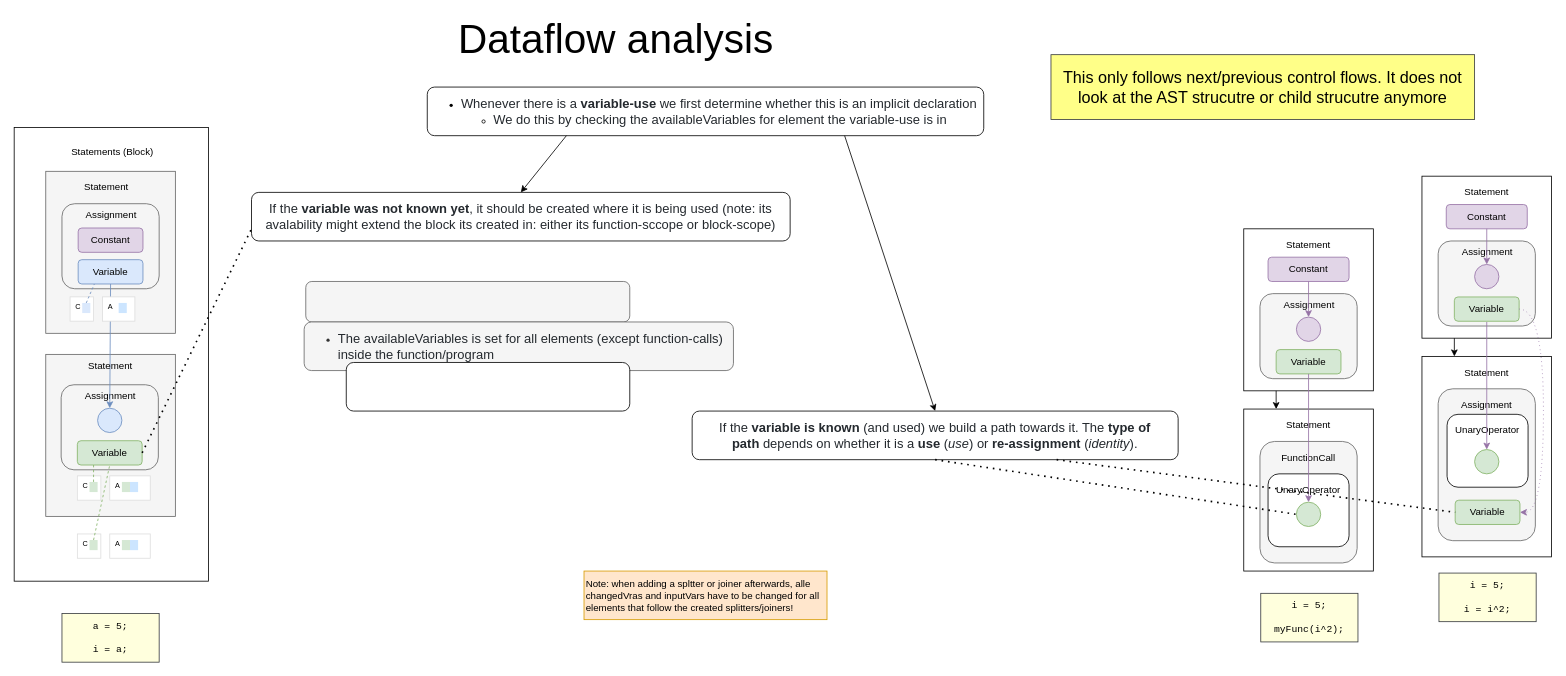
The diagram is 1566 pixels wide and 676 high, and some of its shapes have lost their labels. The shapes that lost their labels are listed below. From the top down, each one's box as (x1, y1, x2, y2) in pixels, then its label:
(305, 281, 630, 322): The changedVariables is set for its parent
(345, 362, 630, 411): Note: for block-scope languages this is restricted to the block.
